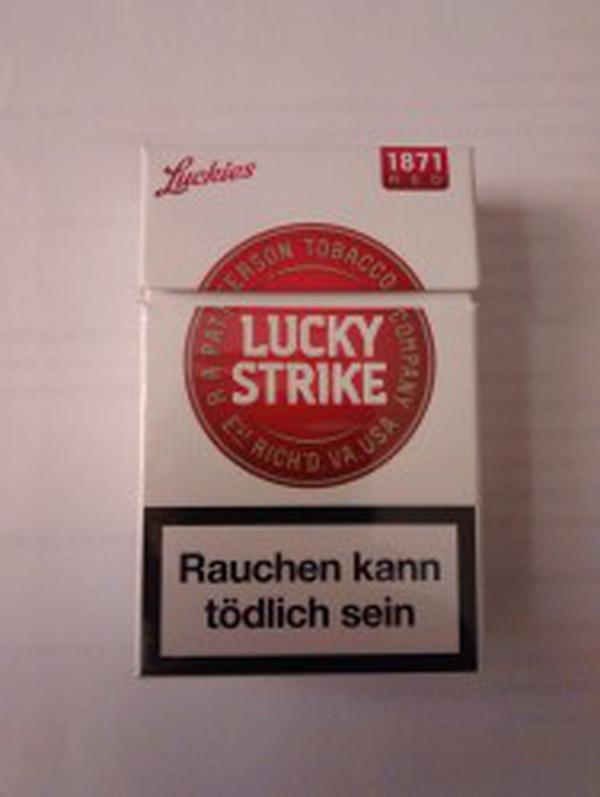lucky_strike_red: (145, 146, 479, 670)
